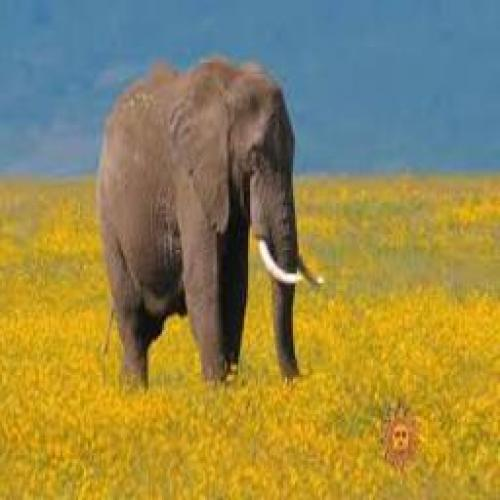african_elephant-endangered: (96, 64, 327, 384)
